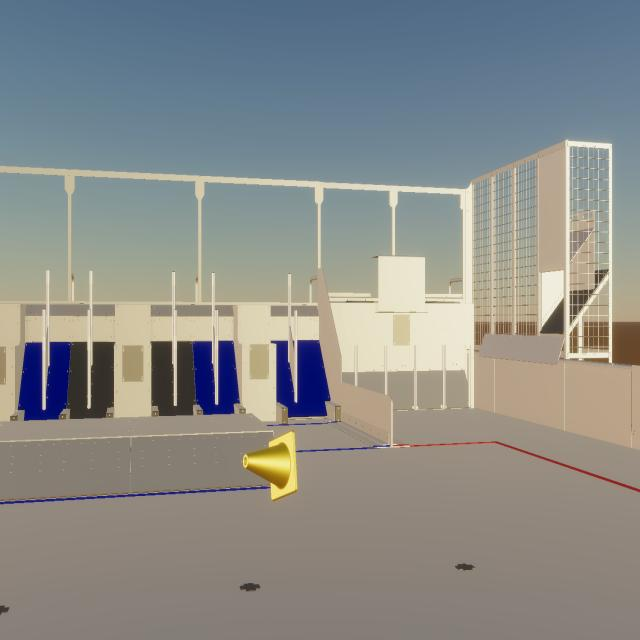frc_cone: (243, 431, 297, 502)
